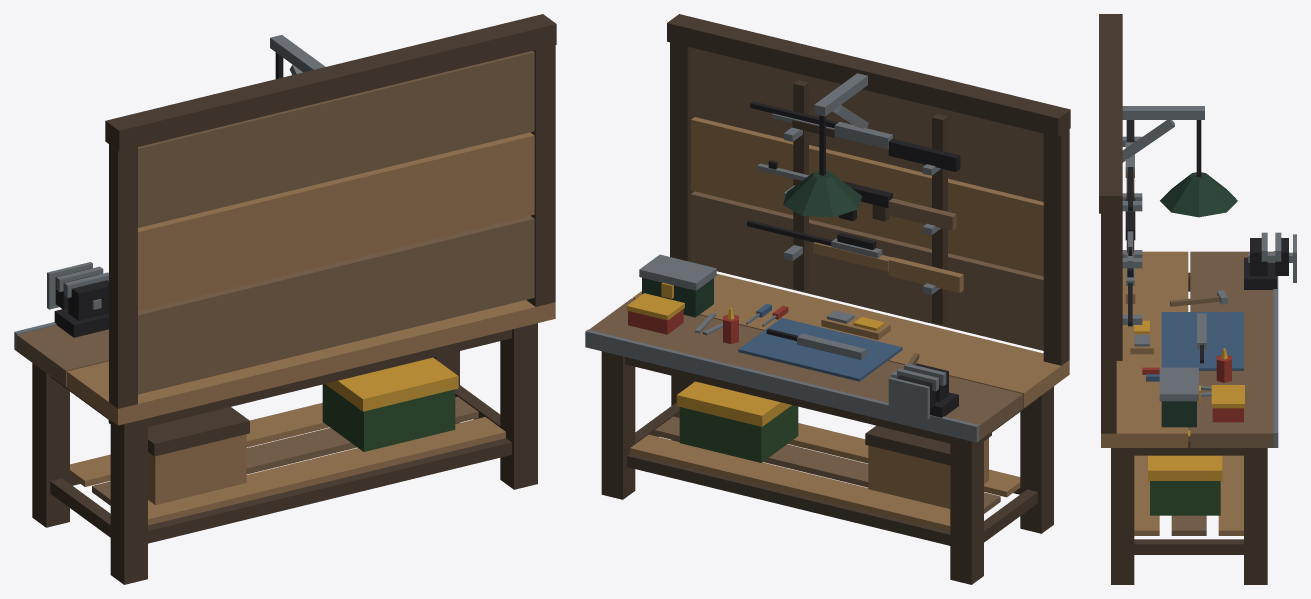
Rendered from gunsmith_bench.glb.
The picture shows the model from 3 angles, left to right: view 1: azimuth 30°, elevation 25°; view 2: azimuth 150°, elevation 25°; view 3: azimuth 270°, elevation 25°; orthographic projection. The views are drawn at different scales.
Parts seen in each view (by area): view 1: gunsmith_bench; view 2: gunsmith_bench; view 3: gunsmith_bench.
Boxes of the visible parts, x1,y1,x2,y2 form: gunsmith_bench: (14,14,556,584); gunsmith_bench: (585,14,1070,584); gunsmith_bench: (1099,14,1296,584).
Size of what is drawn, in the model's own units: 2.2 by 2.22 by 1.01.
Materials: 1 (1 with a texture image).
